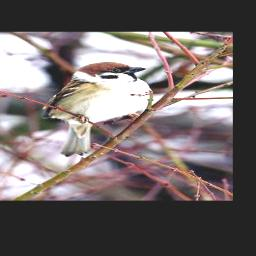Sparrow: (39, 61, 155, 156)
